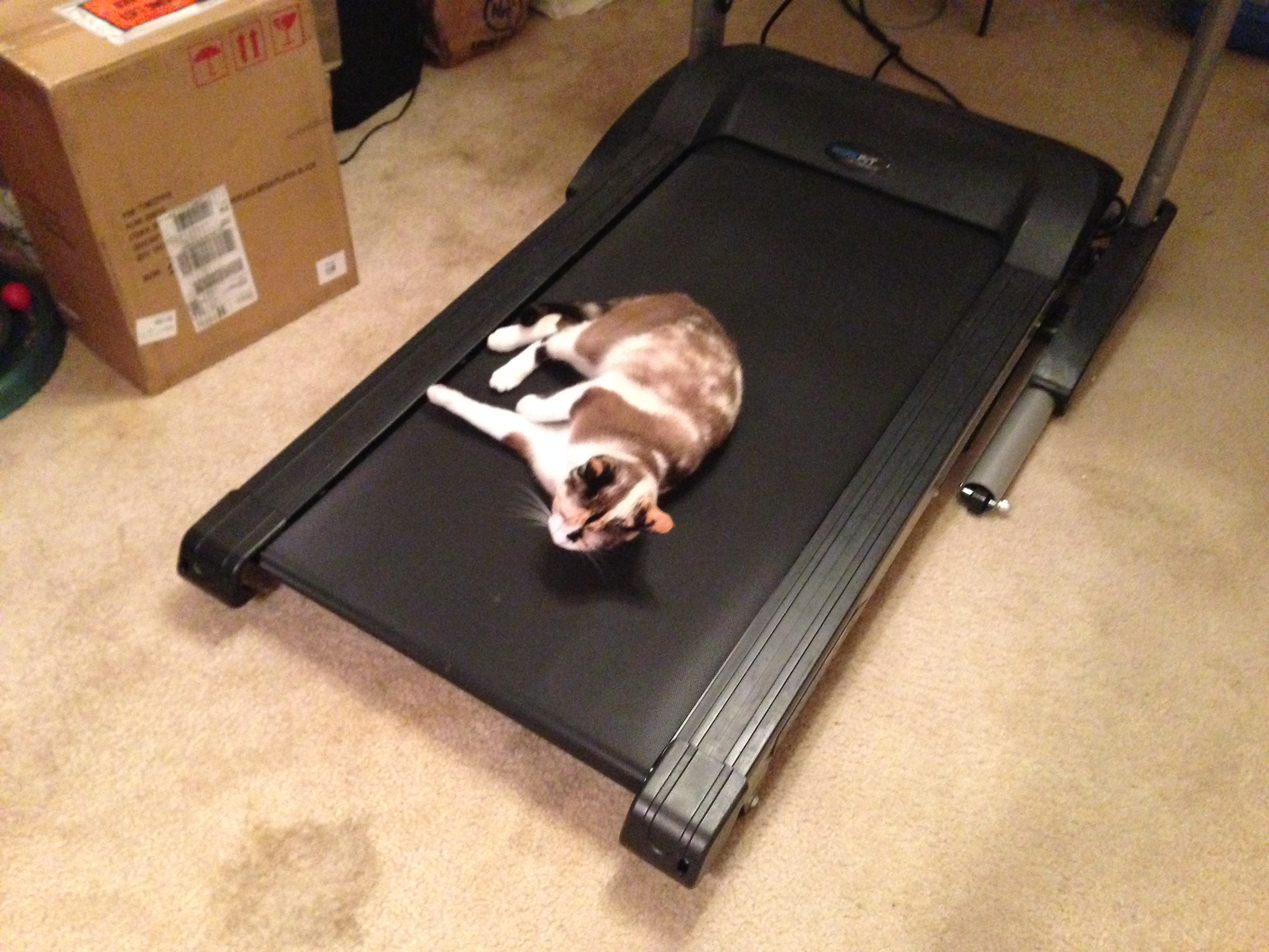cat: (421, 289, 749, 558)
